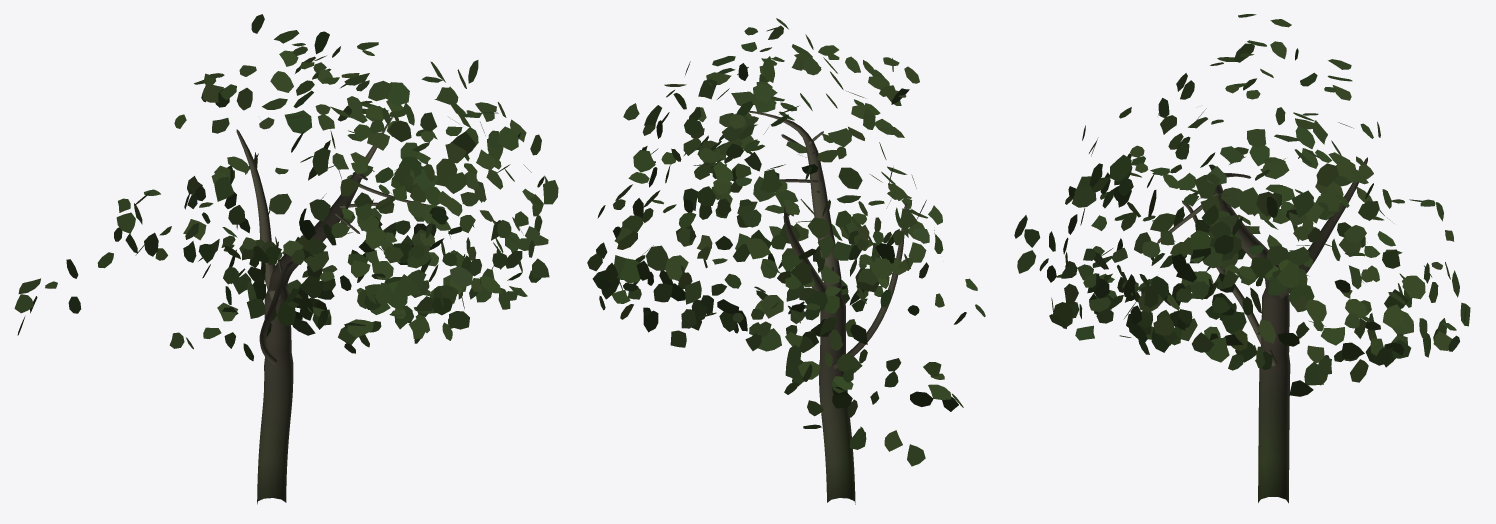
Rendered from SM_TreeFar_oak_0.glb.
3 views of the same model, side by side, from view 1: azimuth 30°, elevation 25°; view 2: azimuth 150°, elevation 25°; view 3: azimuth 270°, elevation 25° (orthographic). The views are drawn at different scales.
Visible parts, largest first — view 1: SM_TreeFar_oak_0; view 2: SM_TreeFar_oak_0; view 3: SM_TreeFar_oak_0.
Boxes of the visible parts, bbox=[...] form: SM_TreeFar_oak_0: bbox=[14, 14, 558, 504]; SM_TreeFar_oak_0: bbox=[587, 18, 985, 504]; SM_TreeFar_oak_0: bbox=[1014, 14, 1470, 503].
Size of the model in its own units: 14.08 by 15.19 by 13.09.
